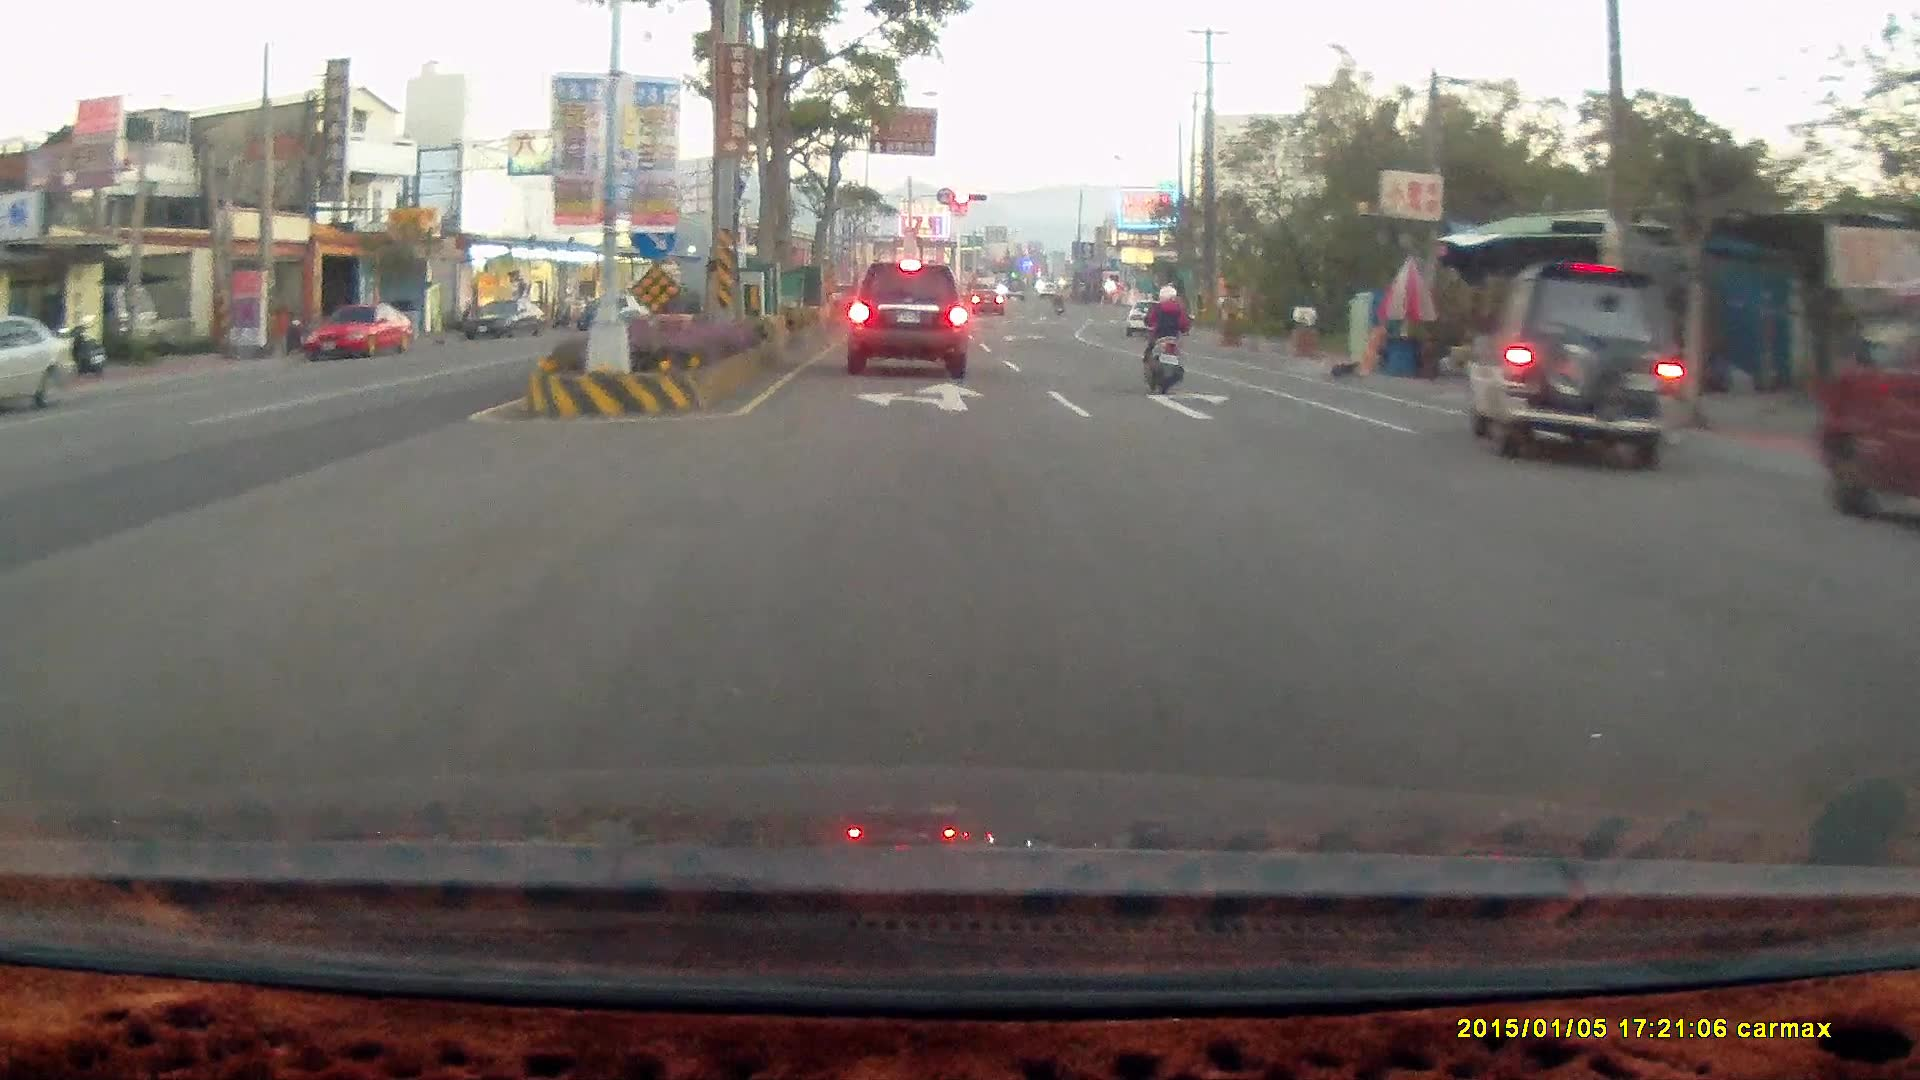rider: (1138, 280, 1189, 395)
vehicle: (1460, 258, 1684, 470), (1468, 260, 1685, 468), (1813, 265, 1920, 525), (1814, 283, 1920, 526), (843, 260, 966, 377), (1896, 493, 1920, 836), (1, 313, 79, 414), (1, 313, 78, 413), (301, 298, 416, 362), (301, 300, 414, 360), (1883, 528, 1920, 690), (469, 298, 547, 347), (1125, 299, 1179, 338)
